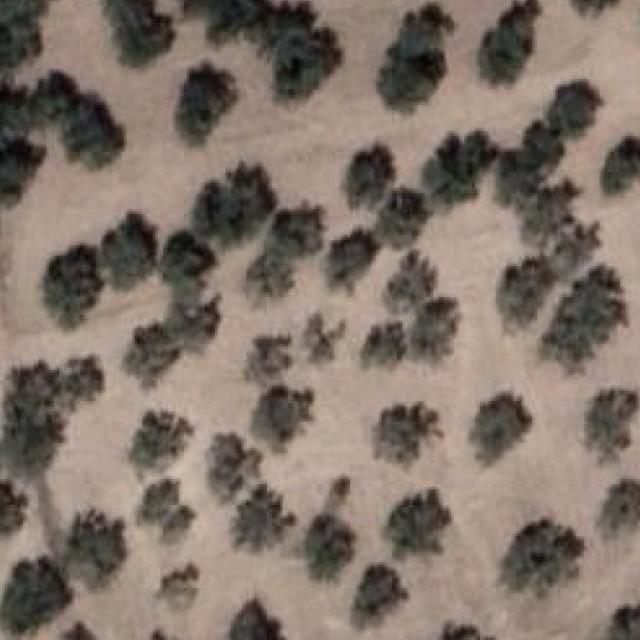Tree: (542, 266, 628, 372), (377, 3, 454, 112), (0, 362, 65, 479), (190, 162, 274, 247), (245, 207, 321, 296), (502, 518, 584, 594), (422, 130, 498, 204), (0, 557, 70, 636), (476, 0, 539, 84), (63, 508, 127, 589), (173, 64, 236, 144), (44, 246, 104, 330), (272, 30, 340, 100), (62, 92, 124, 168), (384, 489, 451, 559), (470, 393, 532, 465), (103, 0, 171, 65), (100, 211, 155, 289), (232, 484, 295, 552), (495, 258, 556, 328), (372, 405, 440, 467), (249, 385, 311, 453), (173, 0, 265, 42), (584, 390, 636, 464), (129, 412, 194, 471), (0, 0, 54, 71), (122, 323, 178, 389), (209, 432, 262, 501), (0, 136, 44, 217), (304, 512, 356, 580), (374, 188, 430, 250), (325, 228, 378, 293), (159, 229, 215, 290), (380, 250, 436, 311), (544, 77, 602, 135), (137, 479, 194, 538), (343, 146, 394, 209), (548, 220, 600, 278), (27, 72, 82, 126), (352, 565, 407, 618), (409, 301, 454, 363), (166, 297, 218, 349), (595, 481, 640, 538), (599, 136, 640, 196), (244, 336, 290, 388), (230, 598, 283, 640), (65, 354, 103, 410), (303, 312, 345, 362), (358, 323, 399, 370), (523, 121, 565, 166), (158, 565, 197, 609), (0, 84, 33, 136), (0, 482, 26, 537), (410, 624, 496, 640), (610, 603, 640, 640), (572, 0, 628, 16), (60, 619, 96, 640)
